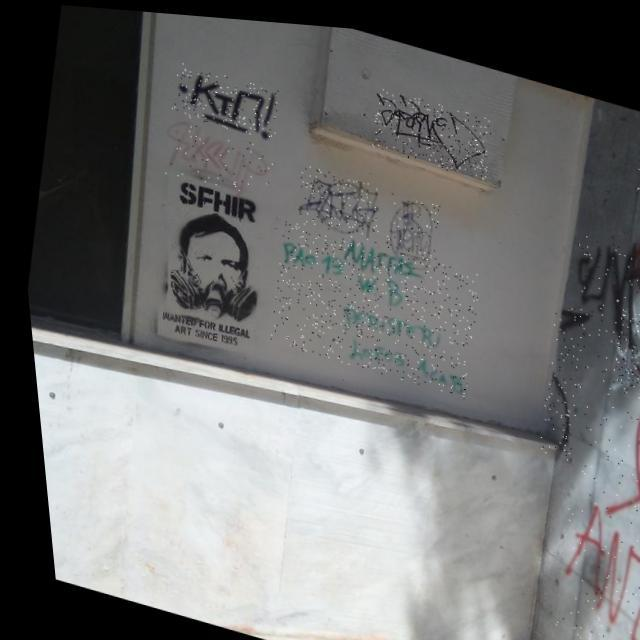-: (253, 212, 484, 392), (512, 336, 640, 640), (518, 289, 596, 456), (364, 80, 496, 174), (552, 215, 640, 351), (150, 108, 276, 200), (165, 58, 282, 139), (286, 158, 384, 242), (605, 148, 640, 337), (372, 184, 444, 273), (597, 294, 640, 396), (623, 100, 640, 201)
